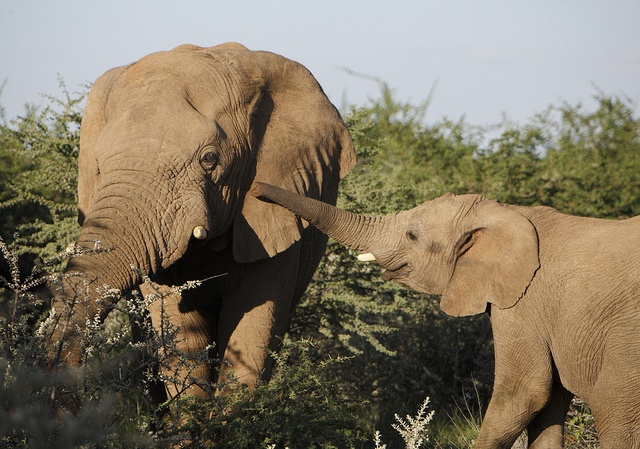elephant: (38, 41, 358, 438), (251, 179, 640, 446)
